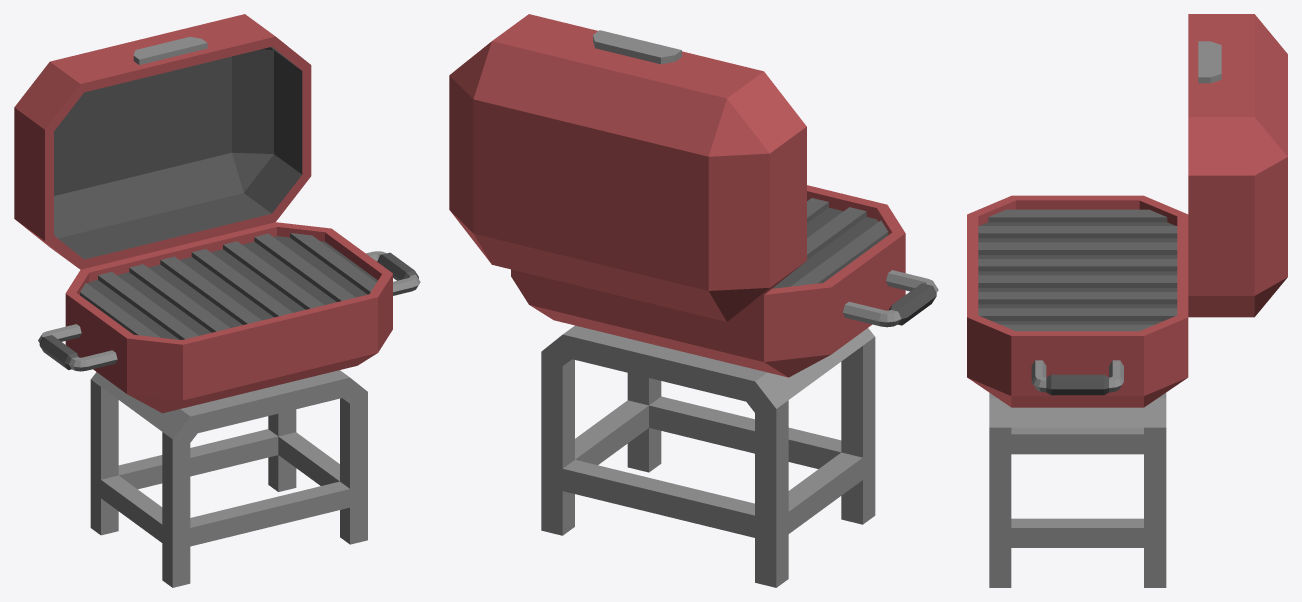
The model's file is FoodMachine01.fbx.
3 views of the same model, side by side, from view 1: azimuth 30°, elevation 25°; view 2: azimuth 150°, elevation 25°; view 3: azimuth 270°, elevation 25° (orthographic). The views are drawn at different scales.
Visible parts, largest first — view 1: FoodMachine01; view 2: FoodMachine01; view 3: FoodMachine01.
Boxes of the visible parts, x1,y1,x2,y2 form: FoodMachine01: [14, 14, 420, 587]; FoodMachine01: [449, 14, 938, 587]; FoodMachine01: [967, 14, 1287, 587].
Size of the model in its own units: 2 by 2.38 by 1.45.
